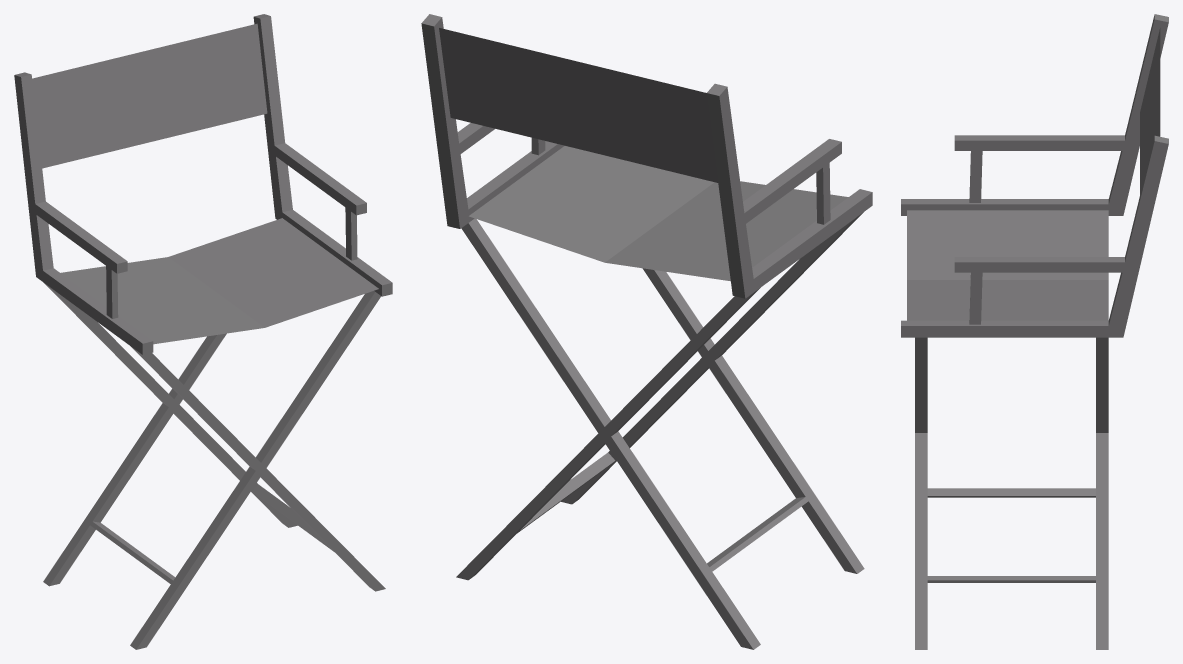
File: chair2.fbx
3 views of the same model, side by side, from view 1: azimuth 30°, elevation 25°; view 2: azimuth 150°, elevation 25°; view 3: azimuth 270°, elevation 25° (orthographic). The views are drawn at different scales.
Visible parts, largest first — view 1: node_id12, node_id15, node_id21, node_id27, node_id24, node_id18, node_id9, node_id6; view 2: node_id15, node_id12, node_id18, node_id27, node_id21, node_id24, node_id9, node_id6; view 3: node_id15, node_id24, node_id27, node_id18, node_id21, node_id12, node_id9, node_id6.
Part boxes in pixels (box(x1,y1,x2,y2)): node_id12: box(32, 23, 267, 168); node_id15: box(61, 218, 378, 344); node_id21: box(130, 291, 385, 649); node_id27: box(14, 72, 153, 354); node_id24: box(253, 14, 392, 296); node_id18: box(43, 282, 297, 586); node_id9: box(90, 521, 175, 583); node_id6: box(252, 484, 333, 551); node_id15: box(469, 146, 848, 281); node_id12: box(439, 28, 717, 182); node_id18: box(456, 218, 760, 649); node_id27: box(706, 83, 872, 298); node_id21: box(561, 212, 864, 573); node_id24: box(421, 14, 564, 228); node_id9: box(707, 497, 808, 571); node_id6: box(517, 452, 615, 533); node_id15: box(907, 210, 1108, 320); node_id24: box(901, 135, 1168, 337); node_id27: box(901, 14, 1168, 215); node_id18: box(1096, 337, 1108, 649); node_id21: box(915, 337, 927, 649); node_id12: box(1140, 28, 1160, 194); node_id9: box(927, 488, 1095, 497); node_id6: box(927, 576, 1095, 582).
Bounding box in the file's own units: 0.2741 × 0.512 × 0.2442.
8 materials, 8 textured.
